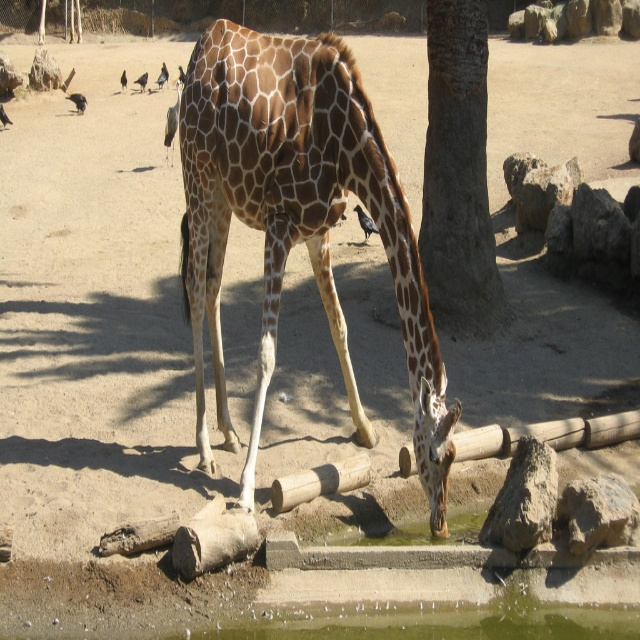Giraffe: (175, 16, 464, 531)
